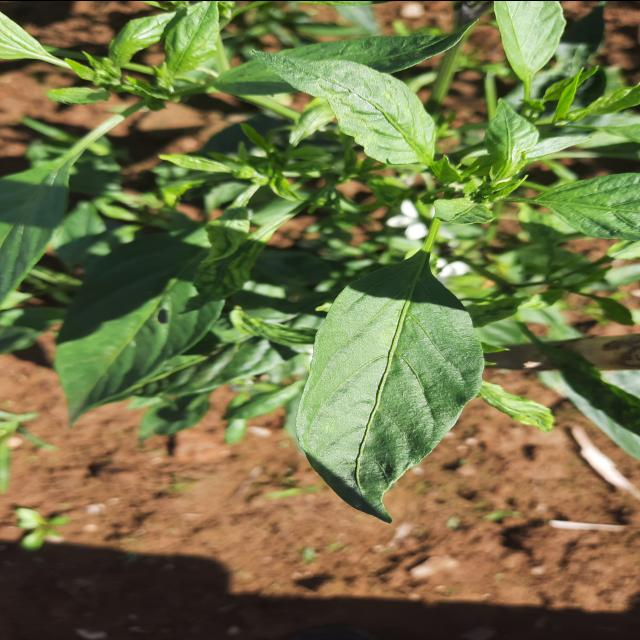sehat: (283, 270, 479, 530)
